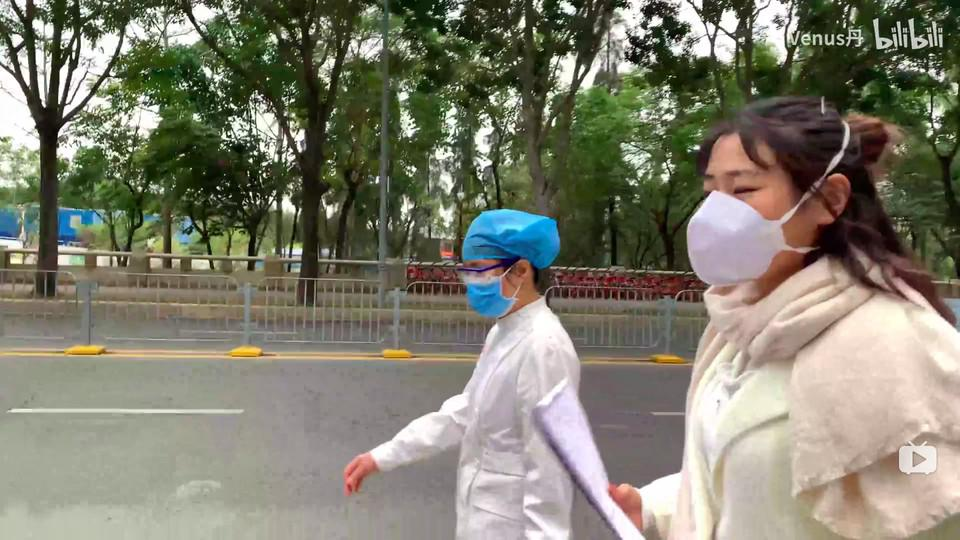OK: (692, 151, 795, 286), (463, 255, 517, 319)
